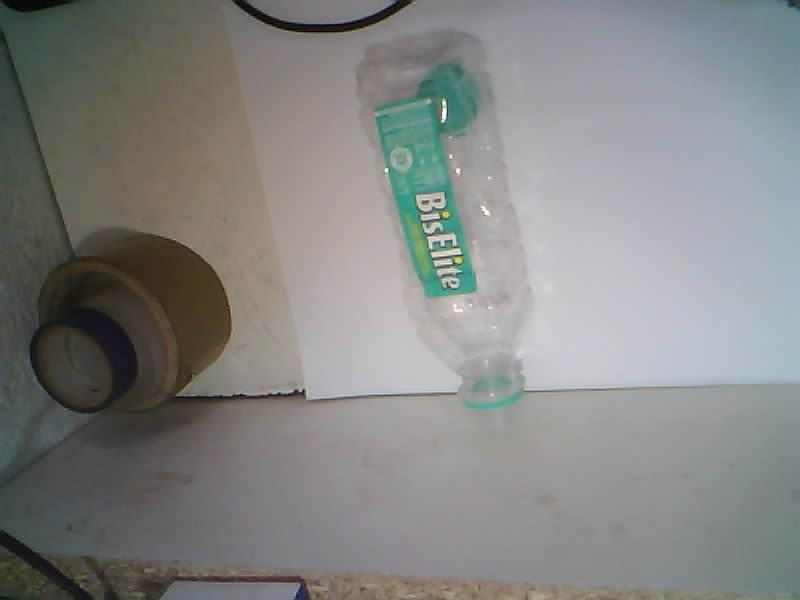non-biodegradable: (357, 34, 531, 410)
